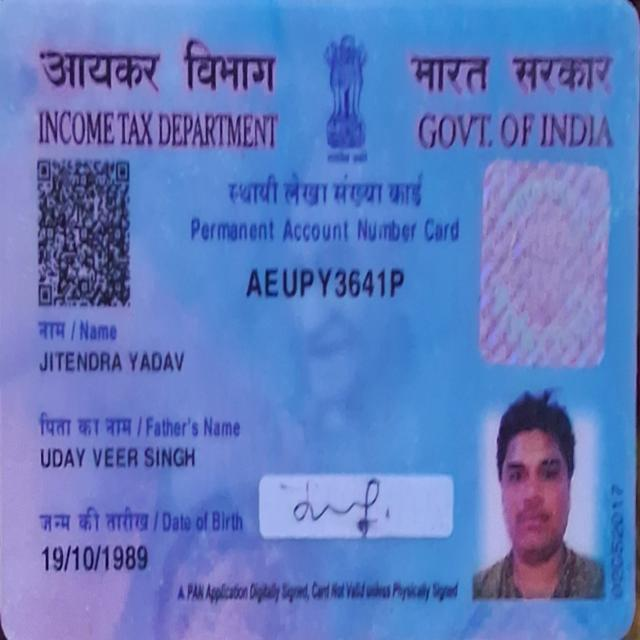pan_card: (1, 3, 635, 631)
